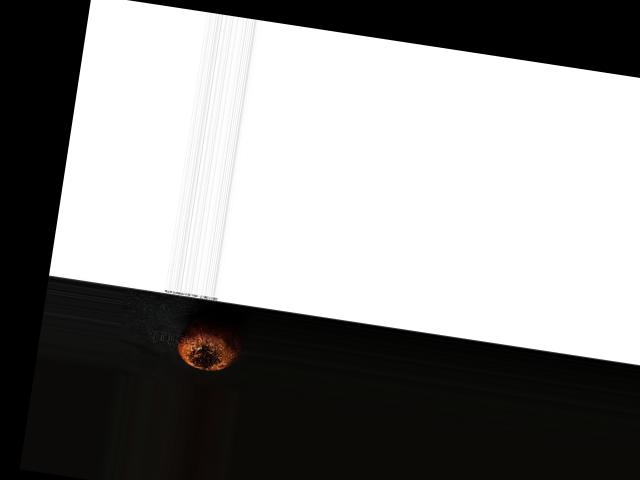beet: (175, 309, 248, 374)
